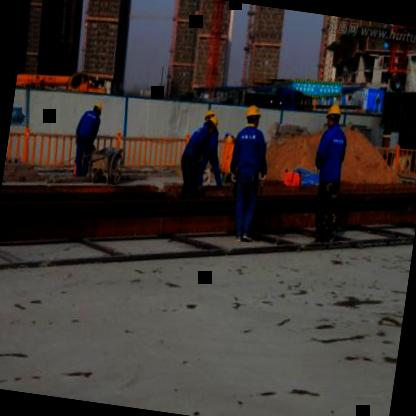helmet: (322, 99, 342, 133), (242, 102, 262, 132), (202, 114, 219, 136), (87, 99, 104, 119)
